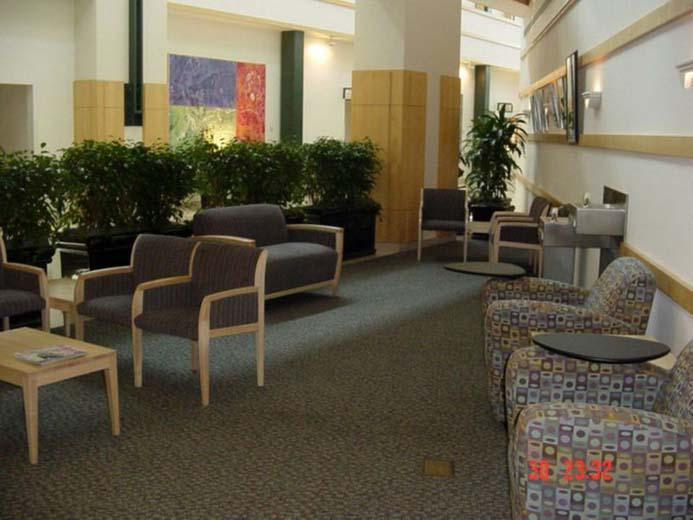Matera: (84, 150, 190, 244), (202, 146, 305, 219), (463, 111, 526, 213), (314, 136, 373, 226), (6, 152, 49, 256)
